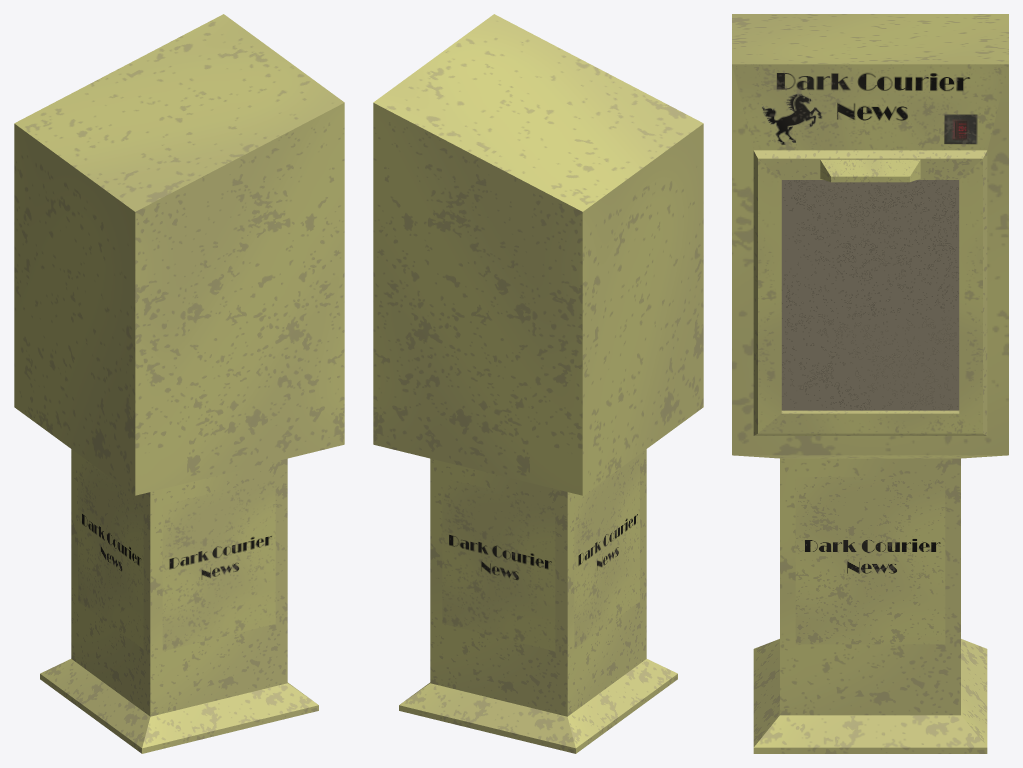
Rendered from Newspaper Machine 3.FBX.
3 views of the same model, side by side, from view 1: azimuth 30°, elevation 25°; view 2: azimuth 150°, elevation 25°; view 3: azimuth 270°, elevation 25° (orthographic). The views are drawn at different scales.
Parts seen in each view (by area): view 1: Box002; view 2: Box002; view 3: Box002.
Boxes of the visible parts, bbox=[...] form: Box002: bbox=[14, 14, 344, 753]; Box002: bbox=[373, 14, 703, 753]; Box002: bbox=[732, 14, 1008, 753].
Size of the model in its own units: 239 by 629 by 226.
